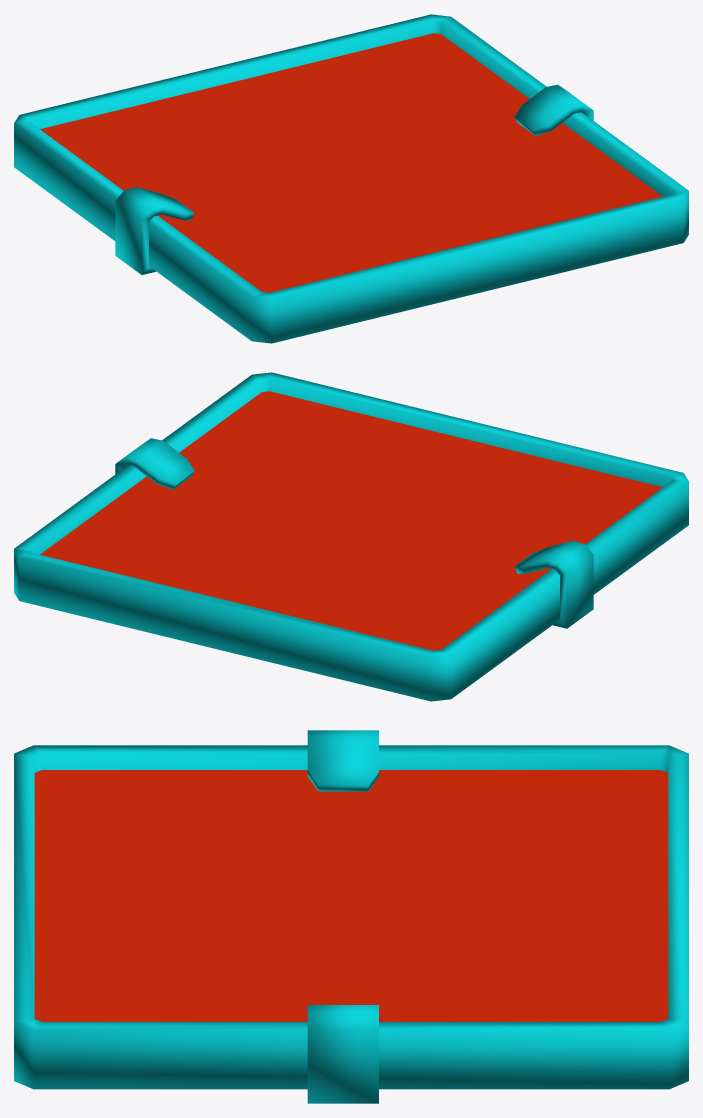
File: squareRing_04.glb
3 views of the same model, one above another, from view 1: azimuth 30°, elevation 25°; view 2: azimuth 150°, elevation 25°; view 3: azimuth 270°, elevation 25° (orthographic). The views are drawn at different scales.
Visible parts, largest first — view 1: Cube.001; view 2: Cube.001; view 3: Cube.001.
Boxes of the visible parts, box(x1,y1,x2,y2) form: Cube.001: box(14, 14, 688, 343); Cube.001: box(14, 372, 688, 701); Cube.001: box(14, 730, 688, 1103).
Bounding box in the file's own units: 2.14 × 0.2881 × 2.07.
